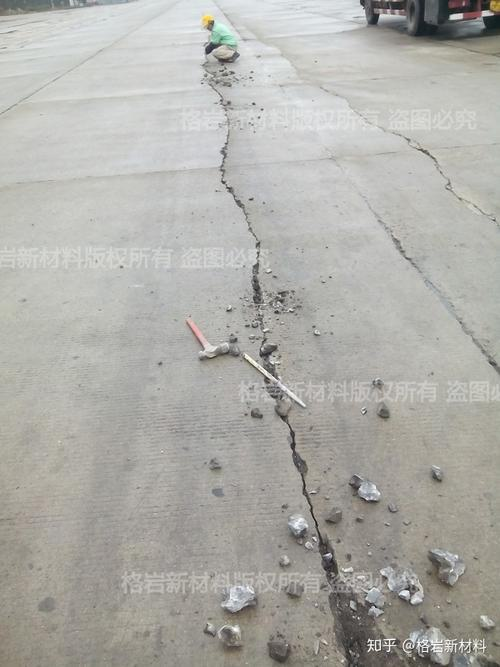Crack: (201, 56, 400, 667), (286, 57, 500, 221)
